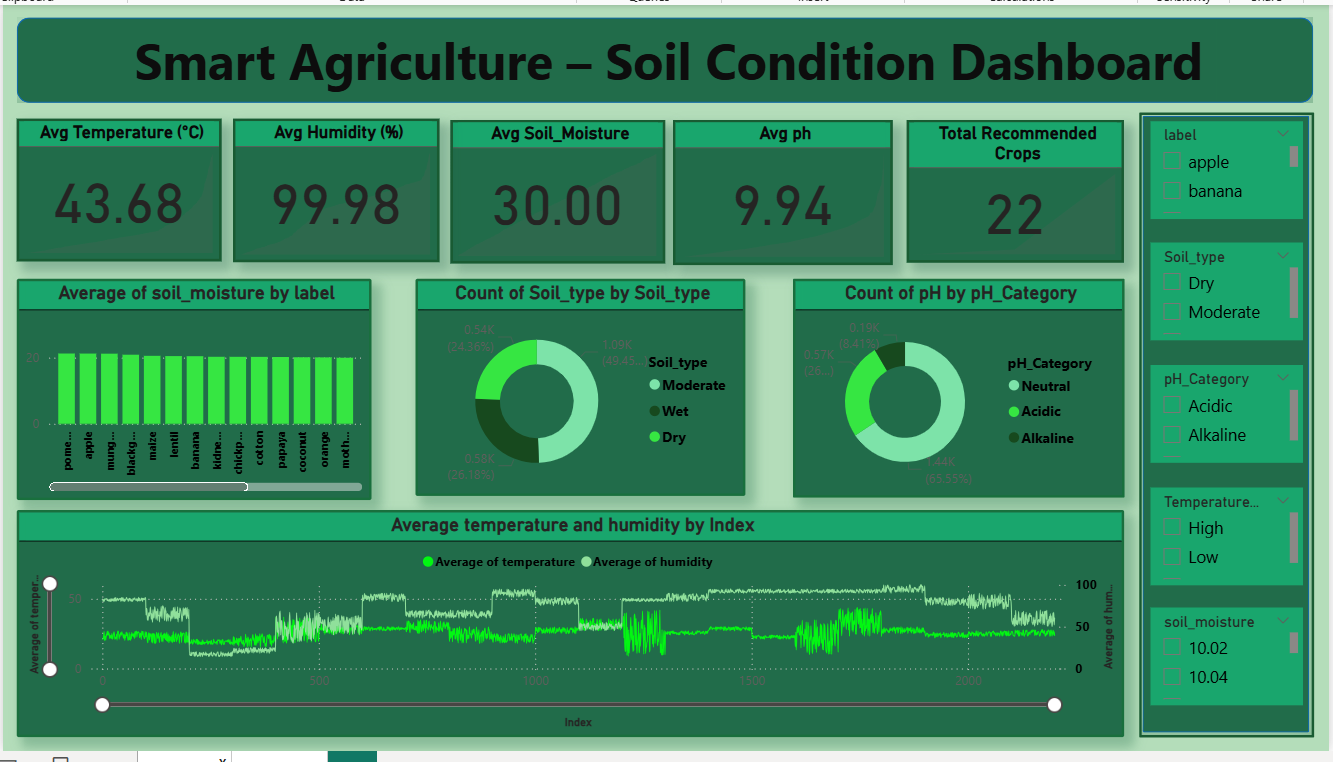

The page's visual inventory and layout, read from the dashboard file:
{"tool":"powerbi","page":{"name":"Page 1","canvas":[1280,720],"ordinal":0},"visuals":[{"type":"kpi","title":"Avg Temperature (°C)","fields":{"Indicator":["Avg(crop_recom.temperature)"],"TrendLine":["crop_recom.temperature"]},"box":[13.3,109.8,197.9,137.5],"z":0},{"type":"kpi","title":"Avg Soil_Moisture","fields":{"Indicator":["Avg(crop_recom.soil_moisture)"],"TrendLine":["crop_recom.soil_moisture"]},"box":[431.9,111,207.5,138.7],"z":1000},{"type":"kpi","title":"Avg Humidity (%)","fields":{"Indicator":["Avg(crop_recom.humidity)"],"TrendLine":["crop_recom.humidity"]},"box":[222,109.8,199.1,138.7],"z":2000},{"type":"kpi","title":"Avg ph","fields":{"Indicator":["Avg(crop_recom.ph)"],"TrendLine":["crop_recom.ph"]},"box":[646.7,111,212.3,139.9],"z":3000},{"type":"kpi","title":"Total Recommended Crops","fields":{"Indicator":["crop_recom.Total Crop Types"],"TrendLine":["crop_recom.Temperature_Category"]},"box":[872.3,111,209.9,137.5],"z":4000},{"type":"shape","box":[13.7,12.3,1251.5,82.3],"z":5000},{"type":"textbox","box":[122.1,15.1,1049.7,76.8],"z":6000},{"type":"clusteredColumnChart","fields":{"Category":["crop_recom.label"],"Y":["Avg(crop_recom.soil_moisture)"]},"box":[13.3,264.2,342.6,213.5],"z":7000},{"type":"donutChart","title":"Count of pH by pH_Category","fields":{"Category":["crop_recom.pH_Category"],"Y":["CountNonNull(crop_recom.pH_Category)"]},"box":[762.5,264.2,319.7,211.1],"z":8000},{"type":"donutChart","fields":{"Category":["crop_recom.Soil_type"],"Y":["CountNonNull(crop_recom.Soil_type)"]},"box":[398.1,264.2,318.5,209.9],"z":9000},{"type":"lineChart","title":"Average temperature and humidity by Index","fields":{"Y":["Avg(crop_recom.temperature)"],"Y2":["Avg(crop_recom.humidity)"],"Category":["crop_recom.Index"]},"box":[13.3,487.4,1068.9,219.6],"z":10000},{"type":"shape","box":[1096.7,103.8,168.9,603.2],"z":11000},{"type":"slicer","fields":{"Values":["crop_recom.label"]},"box":[1107.5,112.2,147.2,94.1],"z":12000},{"type":"slicer","fields":{"Values":["crop_recom.Soil_type"]},"box":[1107.5,229.2,147.2,94.1],"z":13000},{"type":"slicer","fields":{"Values":["crop_recom.pH_Category"]},"box":[1107.5,347.5,147.2,94.1],"z":14000},{"type":"slicer","fields":{"Values":["crop_recom.Temperature_Category"]},"box":[1107.5,465.7,147.2,94.1],"z":15000},{"type":"slicer","fields":{"Values":["crop_recom.soil_moisture"]},"box":[1107.5,581.5,147.2,94.1],"z":16000}]}

Visuals, with their boxes in screenshot pixels (x1, y1, x2, y2):
"Avg Temperature (°C)" kpi: (21, 116, 224, 257)
"Avg Soil_Moisture" kpi: (451, 117, 664, 260)
"Avg Humidity (%)" kpi: (235, 116, 439, 259)
"Avg ph" kpi: (671, 117, 889, 261)
"Total Recommended Crops" kpi: (903, 117, 1118, 259)
shape: (21, 16, 1306, 101)
textbox: (132, 19, 1210, 98)
clusteredColumnChart - crop_recom.label x Avg(crop_recom.soil_moisture): (21, 275, 372, 494)
"Count of pH by pH_Category" donutChart: (790, 275, 1118, 492)
donutChart - crop_recom.Soil_type x CountNonNull(crop_recom.Soil_type): (416, 275, 743, 490)
"Average temperature and humidity by Index" lineChart: (21, 504, 1118, 730)
shape: (1133, 110, 1307, 730)
slicer - crop_recom.label: (1144, 119, 1296, 215)
slicer - crop_recom.Soil_type: (1144, 239, 1296, 336)
slicer - crop_recom.pH_Category: (1144, 360, 1296, 457)
slicer - crop_recom.Temperature_Category: (1144, 482, 1296, 578)
slicer - crop_recom.soil_moisture: (1144, 601, 1296, 697)
